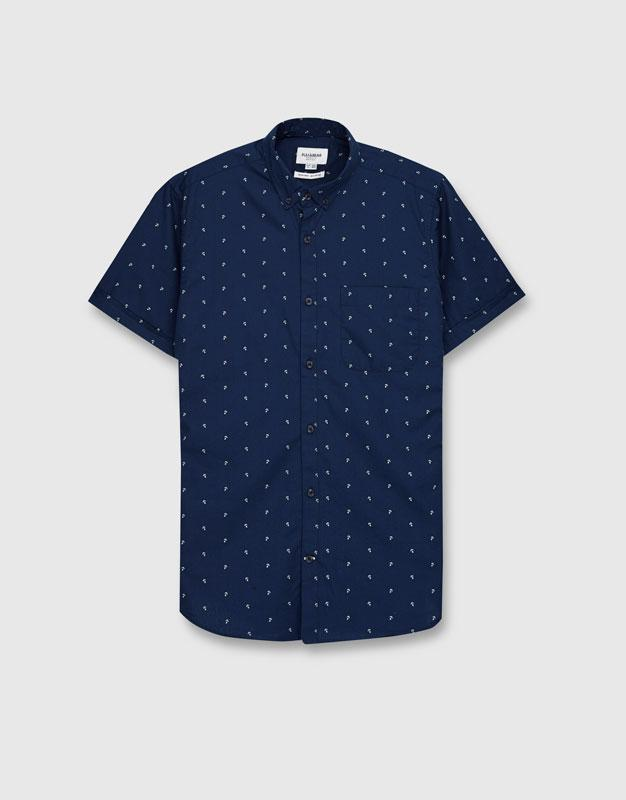teeshirt: (105, 118, 545, 666)
